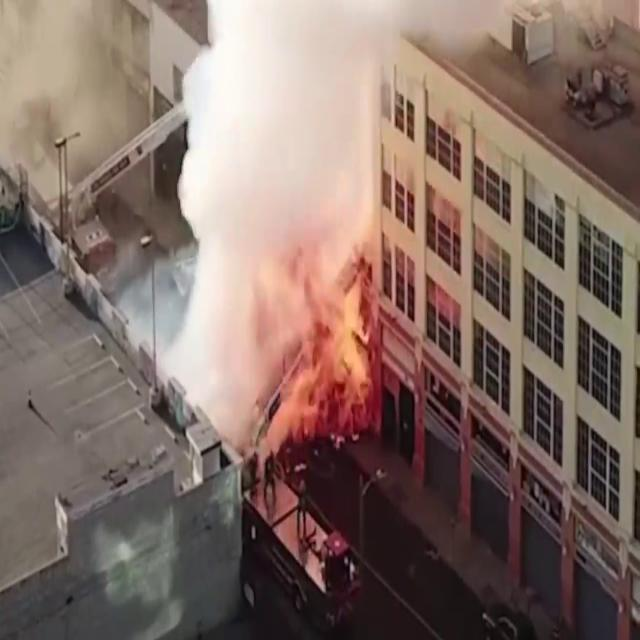Smoke: (176, 0, 372, 444), (0, 0, 161, 213)
